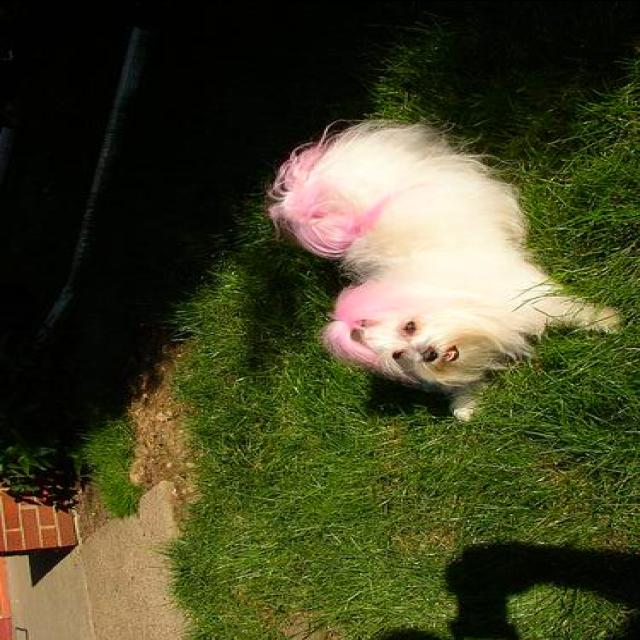maltese_dog: (266, 119, 624, 426)
